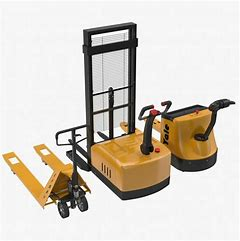Pallet Jack: (66, 19, 172, 200), (1, 124, 92, 221), (120, 102, 228, 173)
